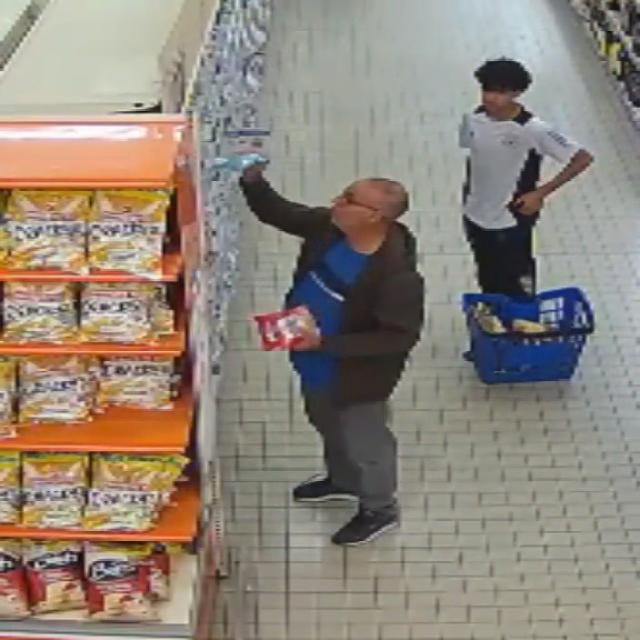article: (275, 303, 317, 350), (255, 309, 295, 354)
hands: (291, 314, 321, 351), (513, 191, 544, 215), (243, 164, 264, 184)
person: (239, 166, 425, 544), (458, 59, 593, 294)
